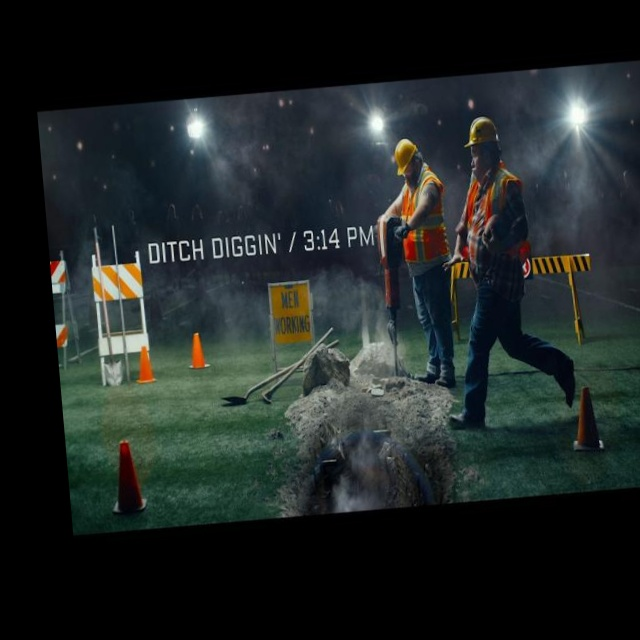Con_Casco: (466, 117, 500, 168), (391, 137, 423, 184)
Con_Chaleco: (462, 172, 531, 274), (399, 177, 452, 273)
